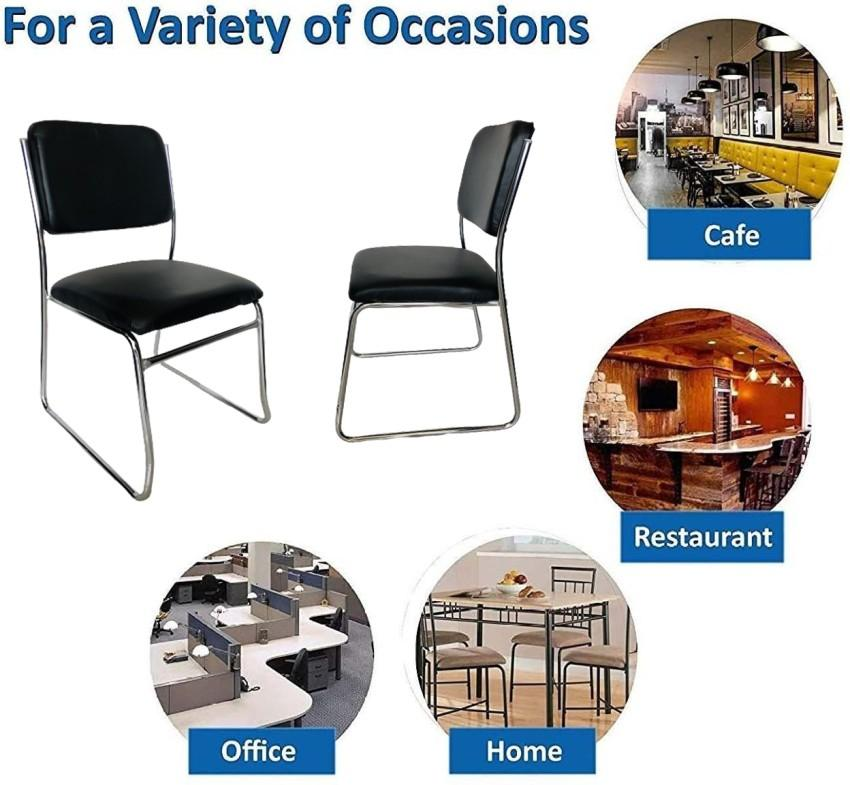chair: (8, 5, 272, 503), (332, 111, 531, 436)
